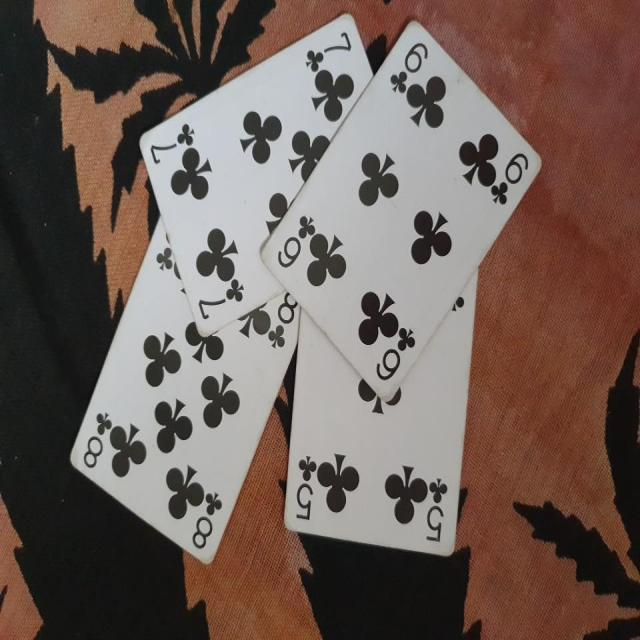5 Trefoils: (283, 270, 482, 561)
6 Trefoils: (260, 20, 542, 401)
7 Trefoils: (139, 13, 378, 340)
8 Trefoils: (72, 210, 300, 564)
